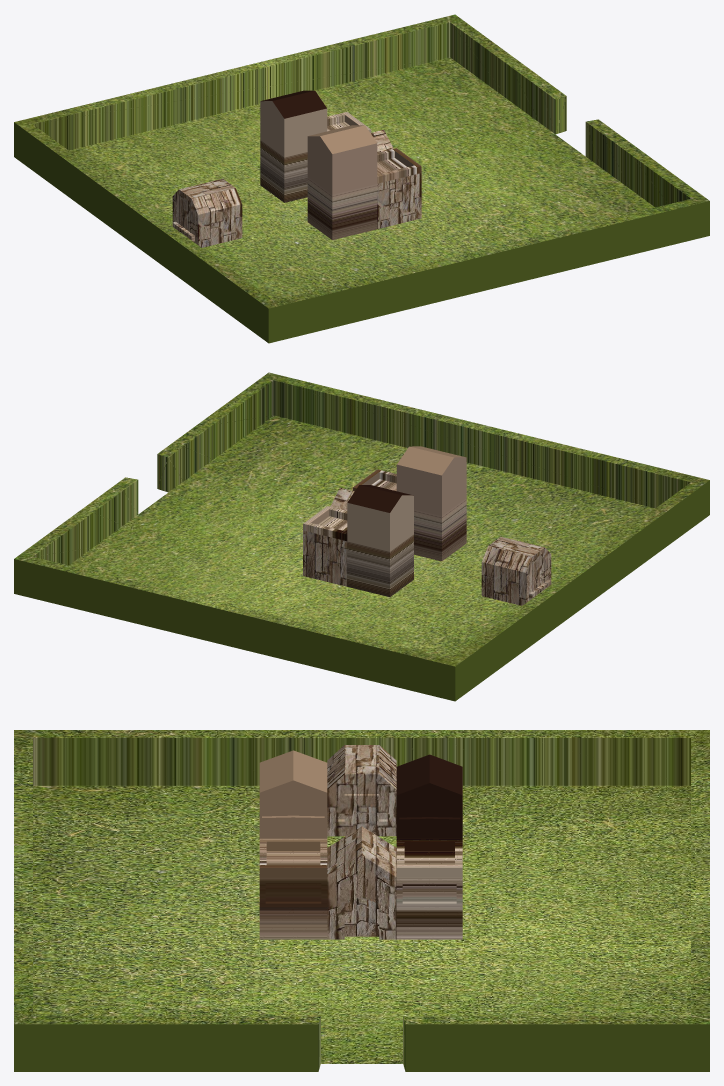
The model's file is casa.fbx.
3 renders of one model, top to bottom at view 1: azimuth 30°, elevation 25°; view 2: azimuth 150°, elevation 25°; view 3: azimuth 270°, elevation 25°, orthographic. The views are drawn at different scales.
Parts seen in each view (by area): view 1: Plane; view 2: Plane; view 3: Plane.
Boxes of the visible parts, x1,y1,x2,y2 form: Plane: [14, 14, 709, 343]; Plane: [14, 372, 709, 701]; Plane: [14, 730, 709, 1071].
Size of the model in its own units: 2000 by 414 by 2000.
